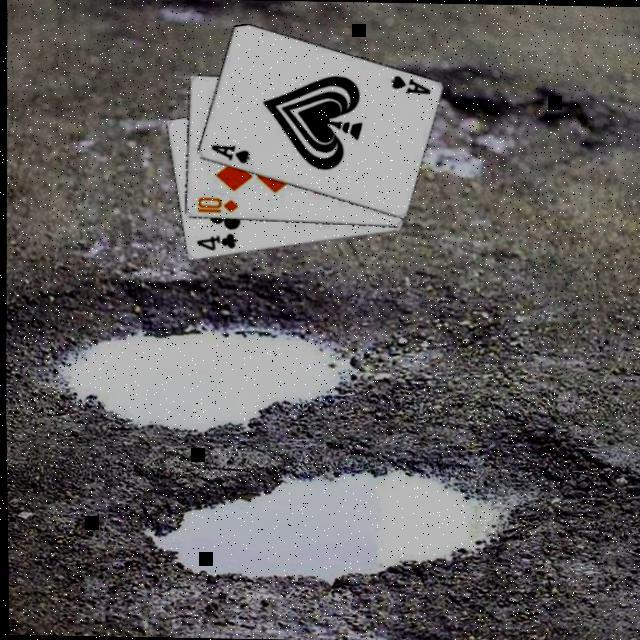10D: (191, 192, 237, 214)
4C: (190, 227, 236, 251)
AS: (384, 70, 429, 95), (205, 140, 249, 165)
